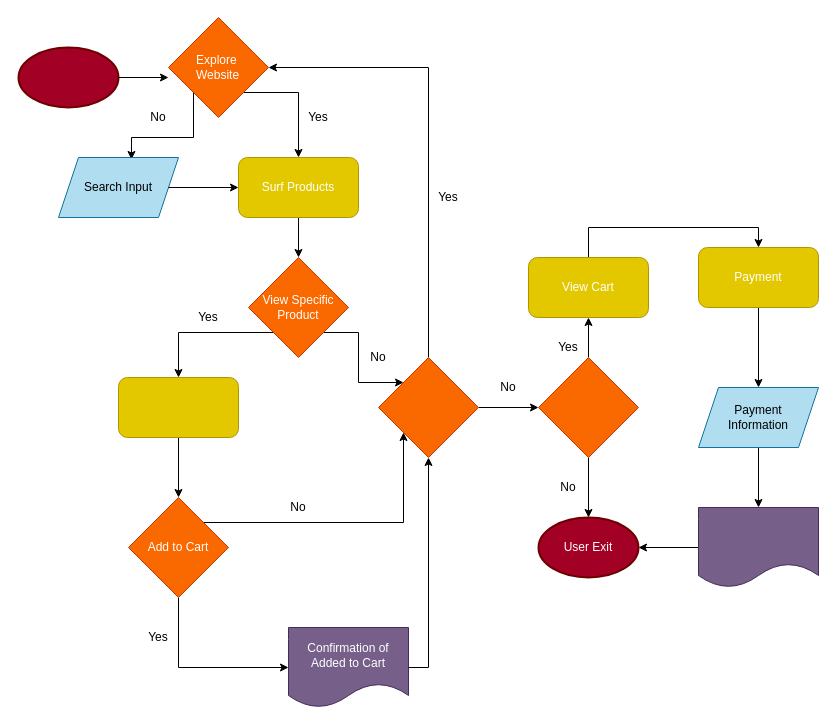
Some shapes in this 836 by 725 pixel diagram are drawn without their labels. The shapes that lost their labels are listed below. From the top down, each one's box as (x1, y1, x2, y2) in pixels, then its label:
(17, 46, 119, 108): User Enter
(118, 376, 238, 438): Product's Webpage
(378, 356, 478, 458): Continue Shopping
(538, 356, 638, 458): Checkout
(698, 506, 818, 588): Order Confirmation Email Notification
